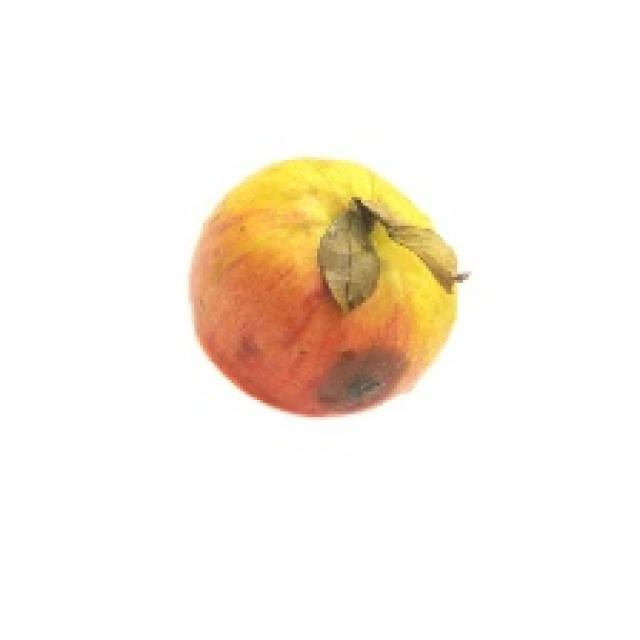rotten_apple: (196, 158, 456, 414)
